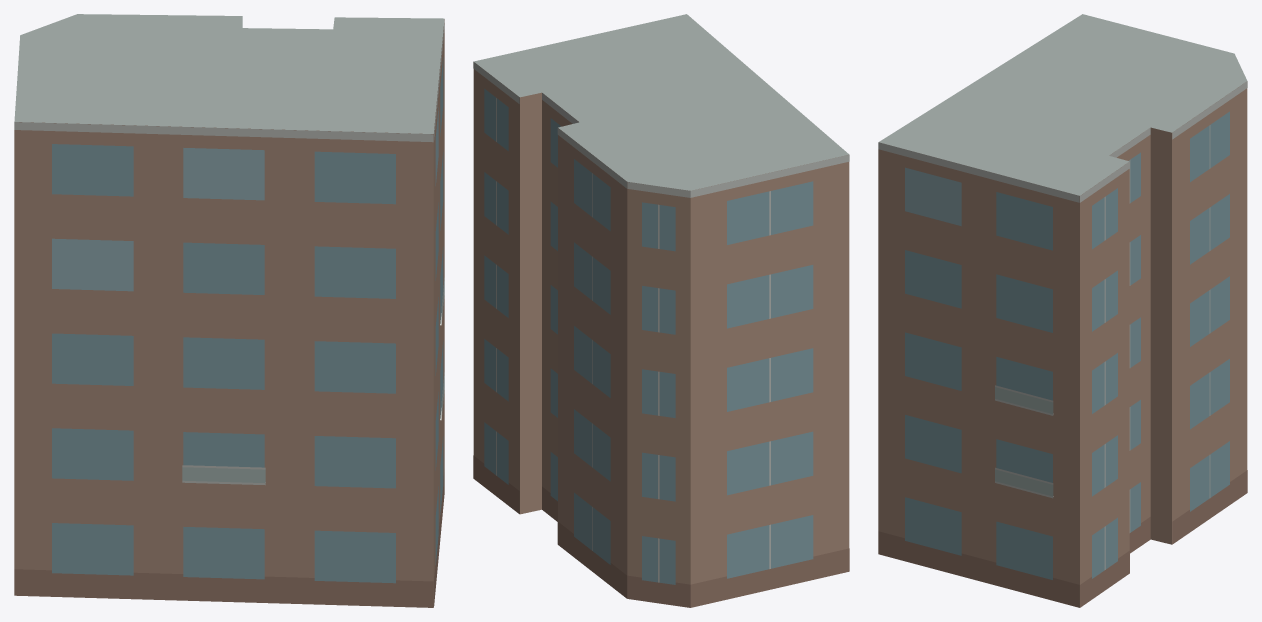
The model's file is survey-upis-32770947.glb.
The picture shows the model from 3 angles, left to right: view 1: azimuth 30°, elevation 25°; view 2: azimuth 150°, elevation 25°; view 3: azimuth 270°, elevation 25°; orthographic projection. The views are drawn at different scales.
Visible parts, largest first — view 1: survey-upis-32770947.tmp; view 2: survey-upis-32770947.tmp; view 3: survey-upis-32770947.tmp.
Part boxes in pixels (x1,y1,x2,y2): survey-upis-32770947.tmp: (14,14,444,607); survey-upis-32770947.tmp: (473,14,849,607); survey-upis-32770947.tmp: (878,14,1247,607).
Bounding box in the file's own units: 13.55 × 14.3 × 11.62.
